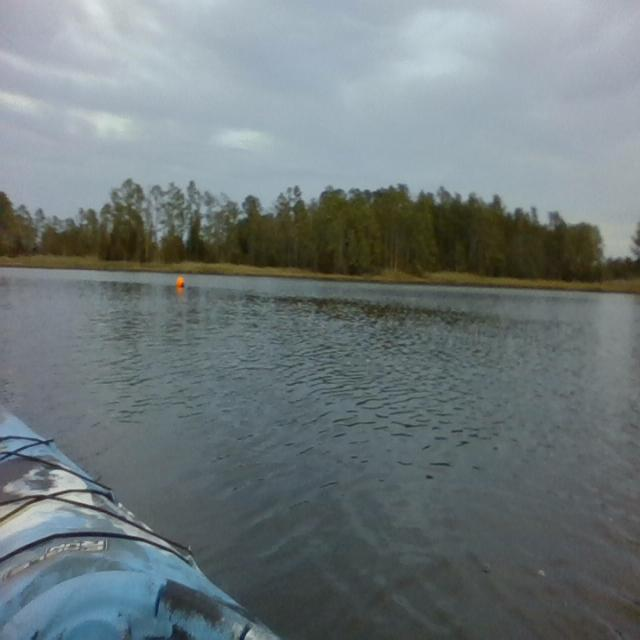Buoy: (176, 275, 185, 289)
